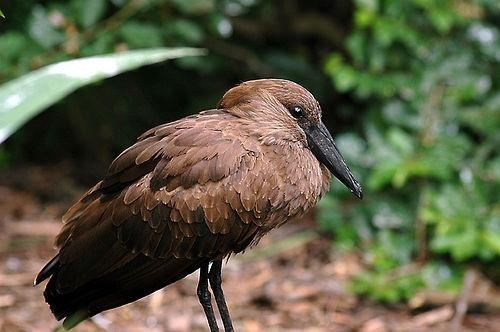bird: (38, 76, 369, 332)
